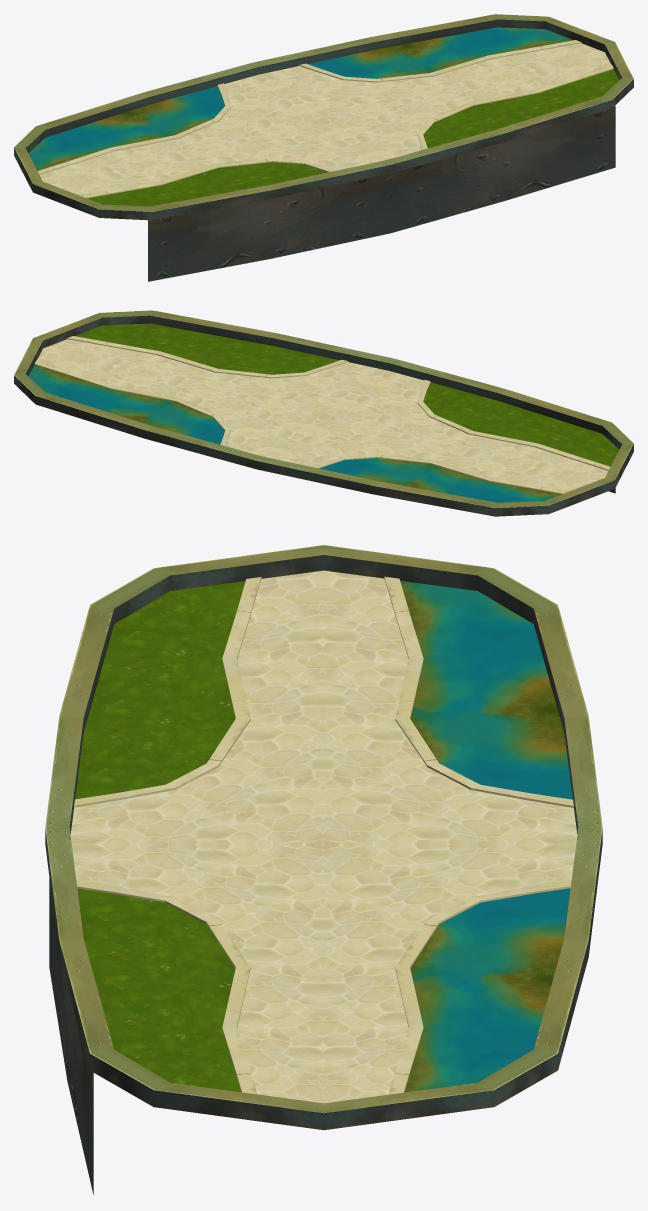
File: ruyi_pk.FBX
3 views of the same model, one above another, from view 1: azimuth 30°, elevation 25°; view 2: azimuth 150°, elevation 25°; view 3: azimuth 270°, elevation 25° (orthographic). The views are drawn at different scales.
Visible parts, largest first — view 1: weiqiang, dimian01, shuitan02, dimian05, qiang04; view 2: dimian01, weiqiang, dimian05, shuitan02, qiang04; view 3: dimian01, weiqiang, shuitan02, dimian05, qiang04.
Boxes of the visible parts, x1,y1,x2,y2 form: weiqiang: (14,14,633,281); dimian01: (40,43,611,195); shuitan02: (28,27,573,170); dimian05: (87,69,619,206); qiang04: (37,40,613,198); dimian01: (37,339,608,491); weiqiang: (14,310,633,516); dimian05: (75,323,619,466); shuitan02: (28,365,561,502); qiang04: (34,336,610,494); dimian01: (70,570,577,1103); weiqiang: (45,545,602,1195); shuitan02: (400,580,572,1092); dimian05: (75,581,245,1092); qiang04: (74,576,573,1094).
Size of the model in its own units: 2405 by 997 by 275.
4 materials, 4 textured.
